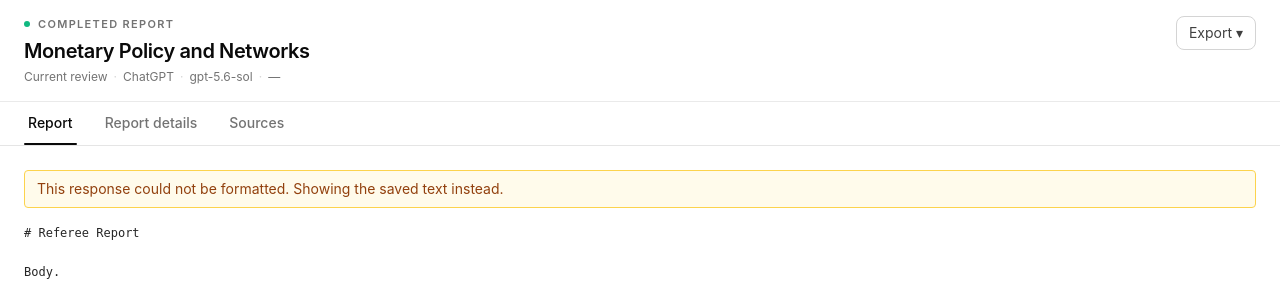
it: ReportWorkspace › keeps technical material behind the Sources tab
expect the button "Extracted text" is not shown: met
Click the tab "Sources". click: (257, 123)
box: x1=225 y1=101 x2=288 y2=145
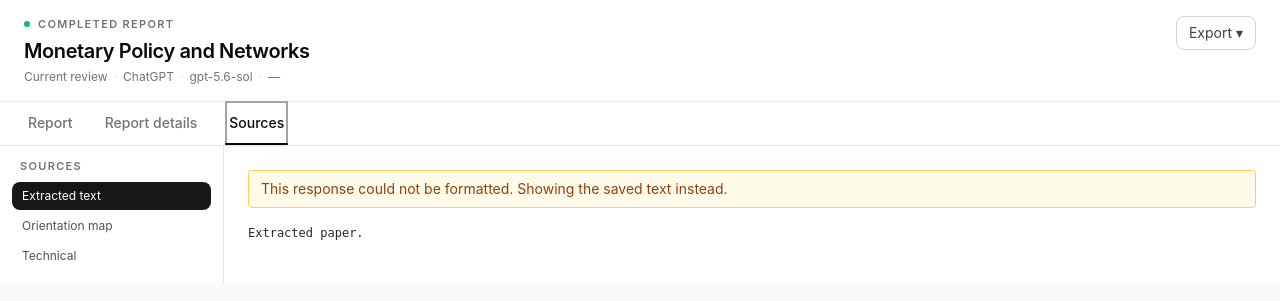
expect the button "Extracted text" is shown: met, box x1=12 y1=182 x2=211 y2=210
expect the button "Technical" is shown: met, box x1=12 y1=242 x2=211 y2=270
